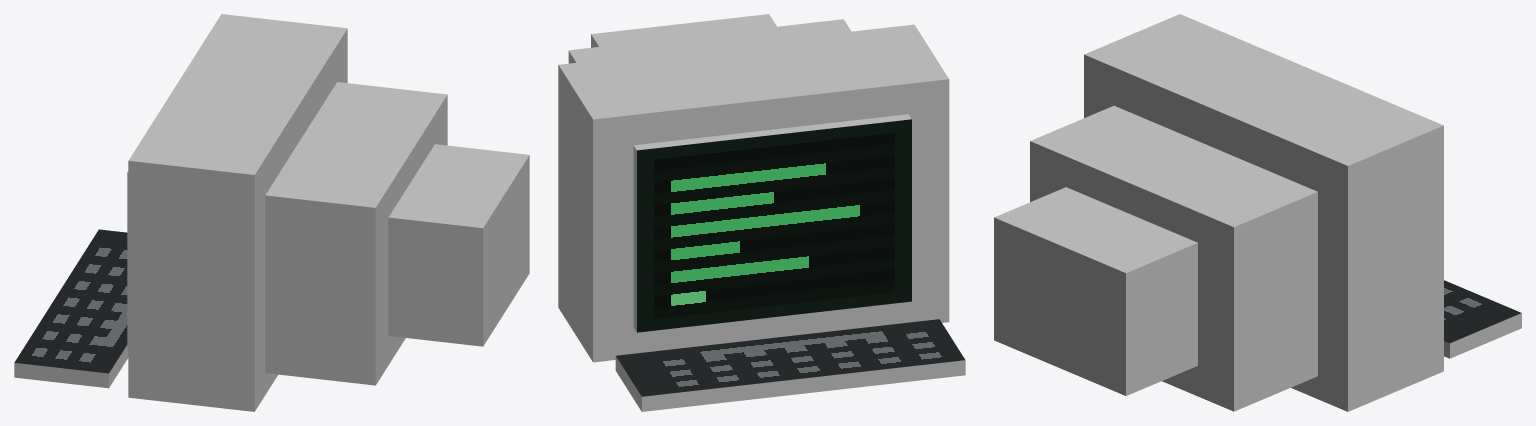
File: desk_corner_crt.obj
3 renders of one model, left to right at view 1: azimuth 30°, elevation 25°; view 2: azimuth 150°, elevation 25°; view 3: azimuth 270°, elevation 25°, orthographic. The views are drawn at different scales.
Visible parts, largest first — view 1: desk_corner_crt; view 2: desk_corner_crt; view 3: desk_corner_crt.
Part boxes in pixels (<box>): desk_corner_crt: <box>14,14,529,411</box>; desk_corner_crt: <box>558,14,965,411</box>; desk_corner_crt: <box>994,14,1521,411</box>.
Size of the model in its own units: 0.6223 by 0.32 by 0.6223.
